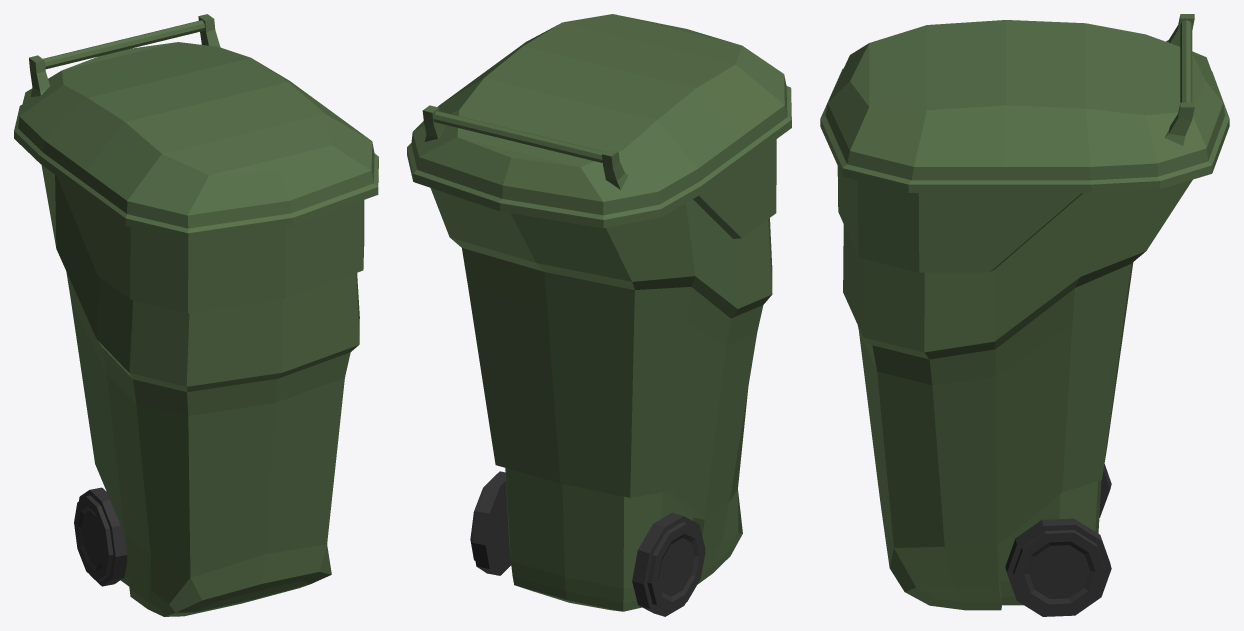
File: Trashcan.glb
3 views of the same model, side by side, from view 1: azimuth 30°, elevation 25°; view 2: azimuth 150°, elevation 25°; view 3: azimuth 270°, elevation 25° (orthographic). The views are drawn at different scales.
Parts seen in each view (by area): view 1: Trashcan; view 2: Trashcan; view 3: Trashcan.
Part boxes in pixels (box(x1,y1,x2,y2)): Trashcan: box(14, 14, 378, 616); Trashcan: box(407, 14, 791, 616); Trashcan: box(820, 14, 1229, 616).
Size of the model in its own units: 3.72 by 6.75 by 4.86.
